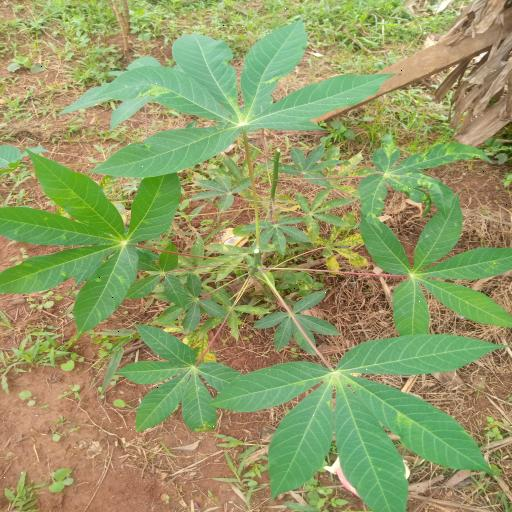Cassava_Mosaic: (236, 334, 512, 512), (106, 24, 379, 176), (6, 152, 196, 338), (359, 197, 512, 337), (342, 127, 510, 229), (124, 322, 254, 433)
